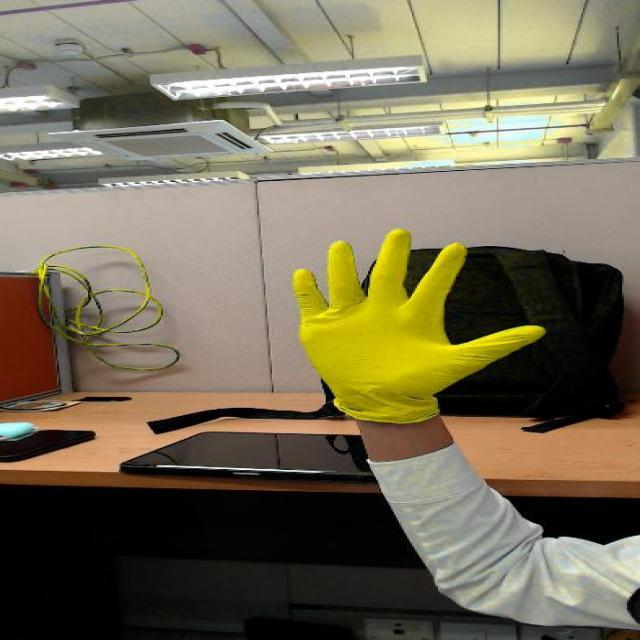gloved_hand: (246, 212, 573, 387)
